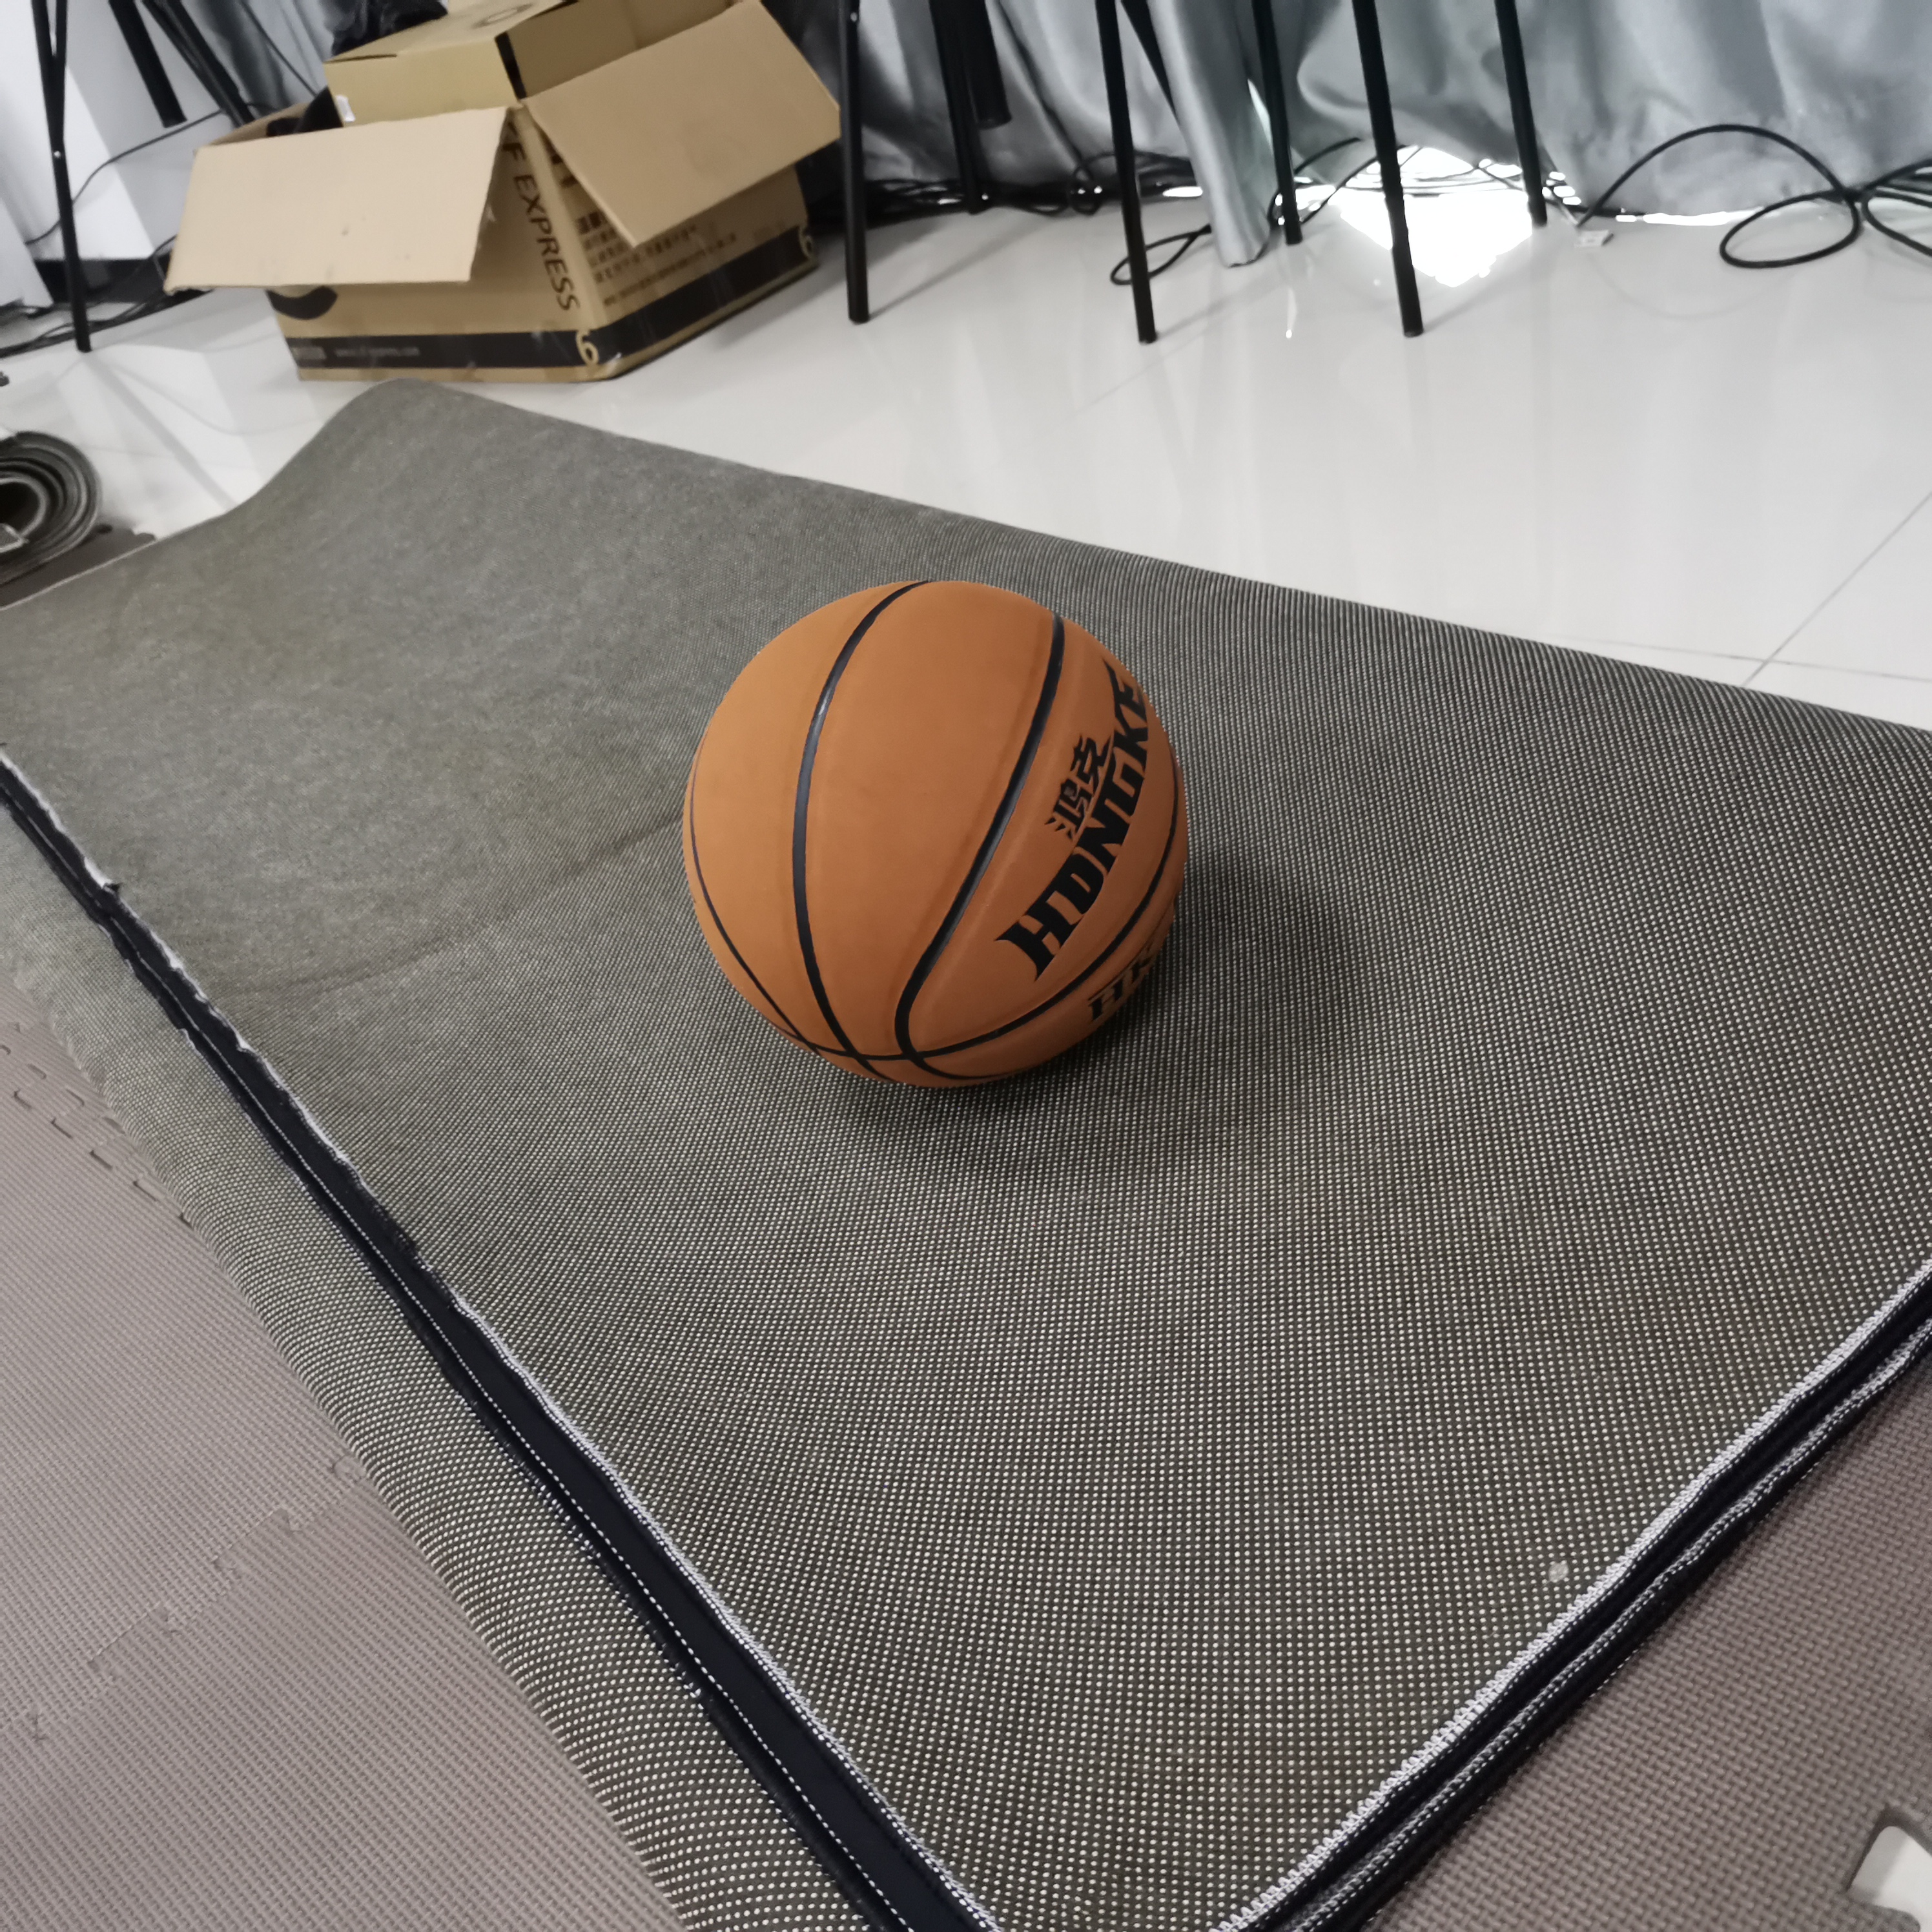basketball: (685, 579, 1194, 1090)
